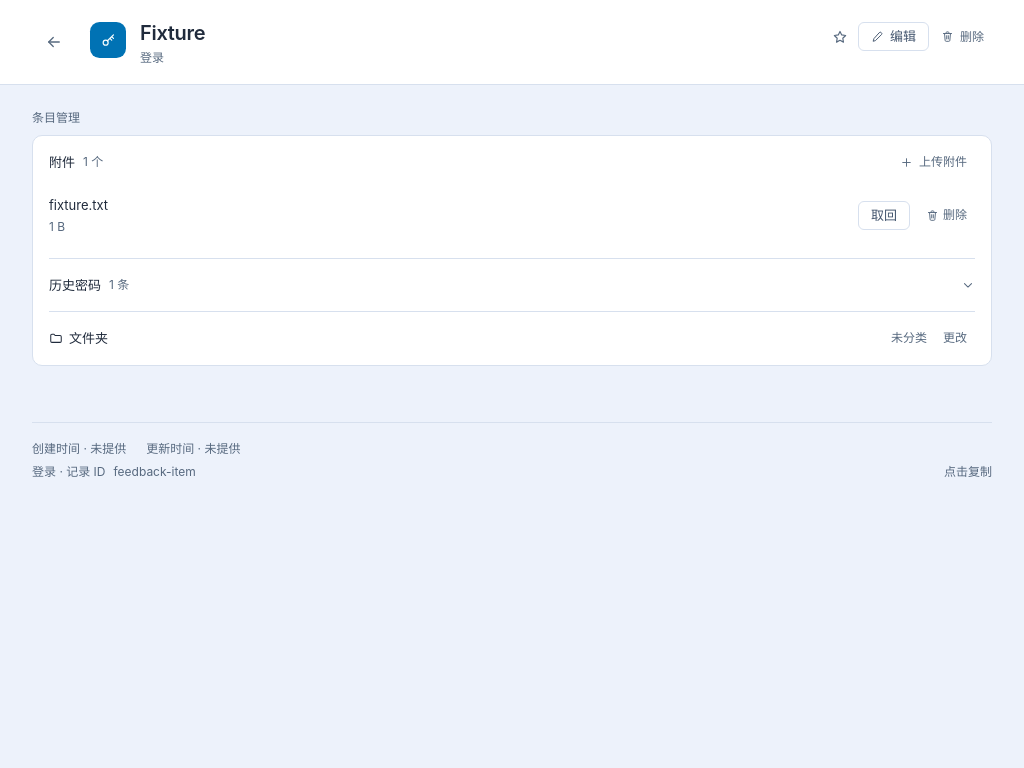
Test: shows a history failure exactly once through the notification owner
This screenshot has width=1024, height=768.
Step 1. Click the button "历史密码 1 条" → (75, 285), box [49, 263, 975, 307]
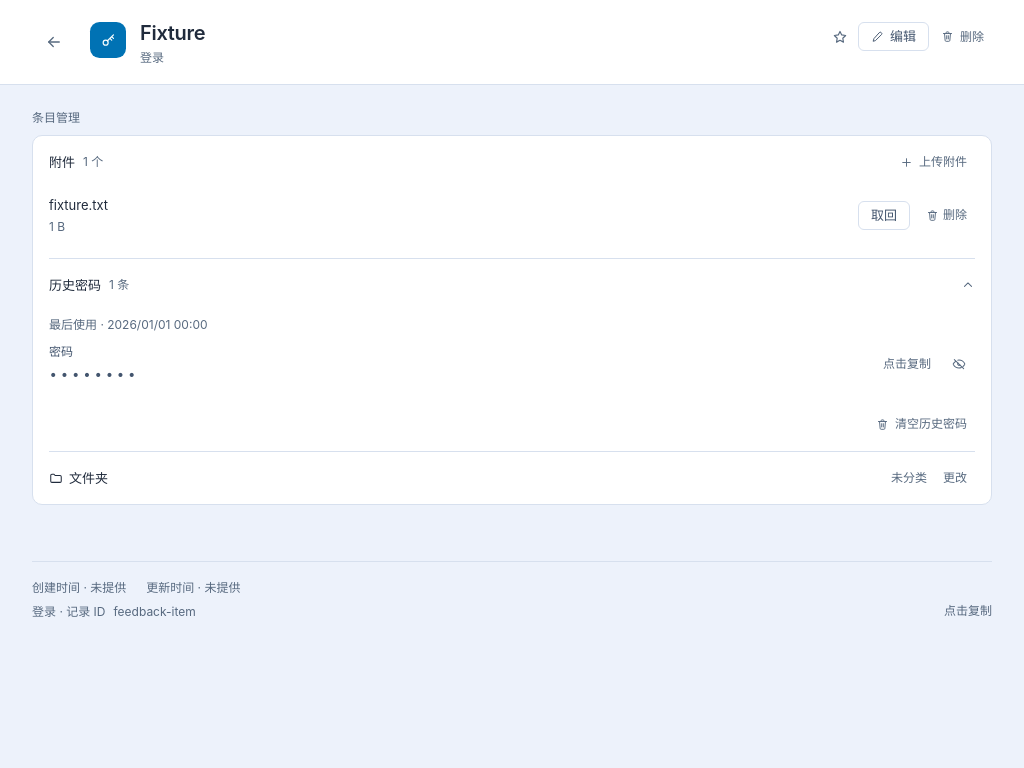
Step 2. Click the button named "显示密码" → (959, 364), box [943, 348, 975, 380]
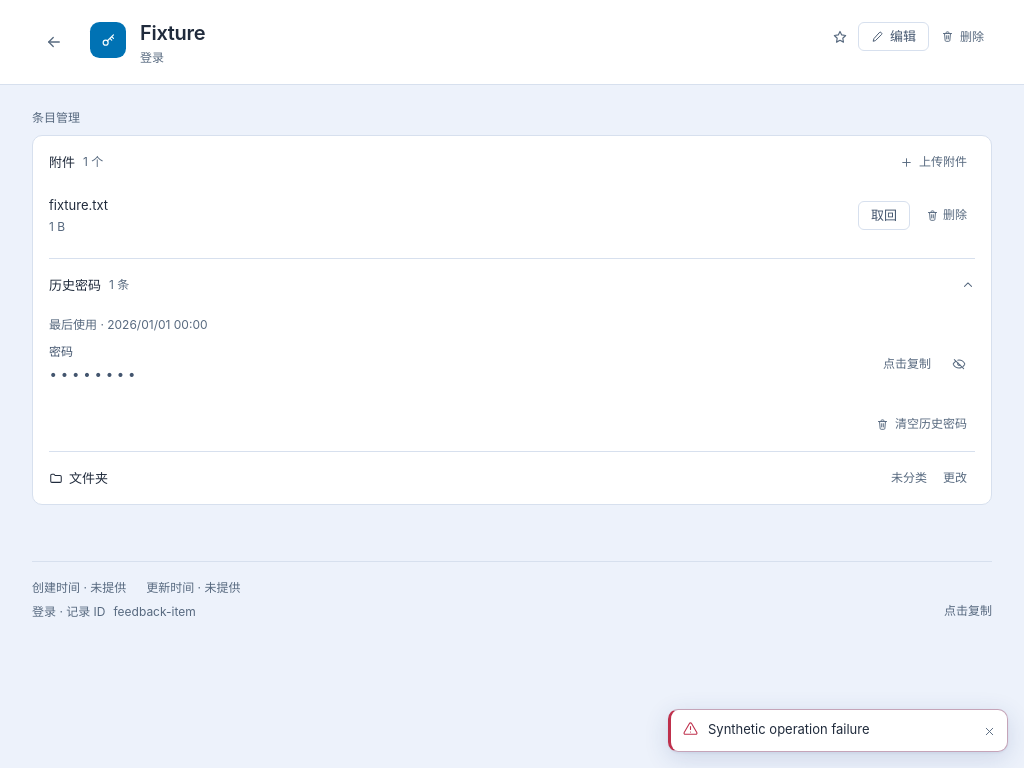
Expected: the message "Synthetic operation failure" is shown, [668, 709, 1008, 752]
